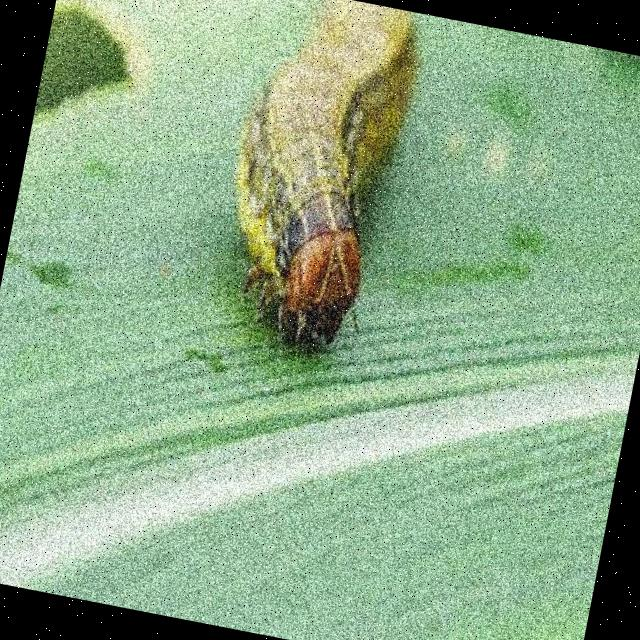worm: (201, 1, 429, 365)
